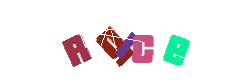1: (85, 0, 165, 80)
C: (94, 0, 174, 80)
E: (136, 0, 216, 80)
G: (81, 0, 161, 80)
R: (55, 0, 135, 80)
